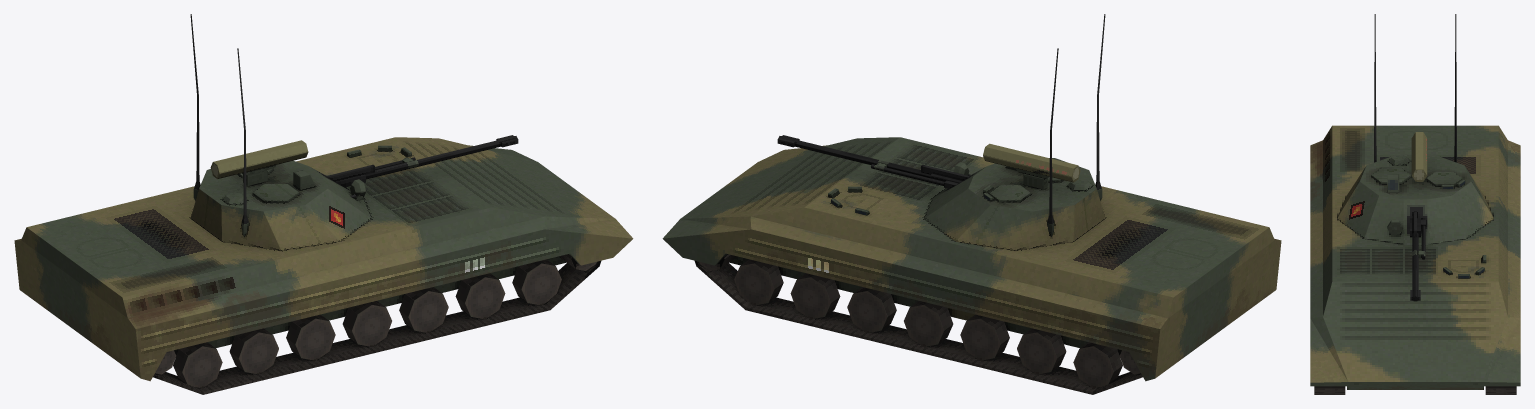
File: revf_ifv.gltf
3 renders of one model, left to right at view 1: azimuth 30°, elevation 25°; view 2: azimuth 150°, elevation 25°; view 3: azimuth 270°, elevation 25°, orthographic. The views are drawn at different scales.
Visible parts, largest first — view 1: body; view 2: body; view 3: body.
Part boxes in pixels (x1,y1,x2,y2): body: [14, 14, 633, 394]; body: [662, 14, 1281, 394]; body: [1310, 14, 1520, 394].
Bounding box in the file's own units: 6.22 × 3.6 × 2.6.
Materials: 1 (1 with a texture image).
